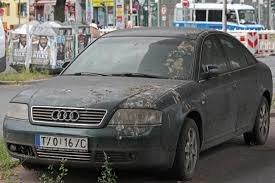license-plates: (40, 136, 88, 150)
